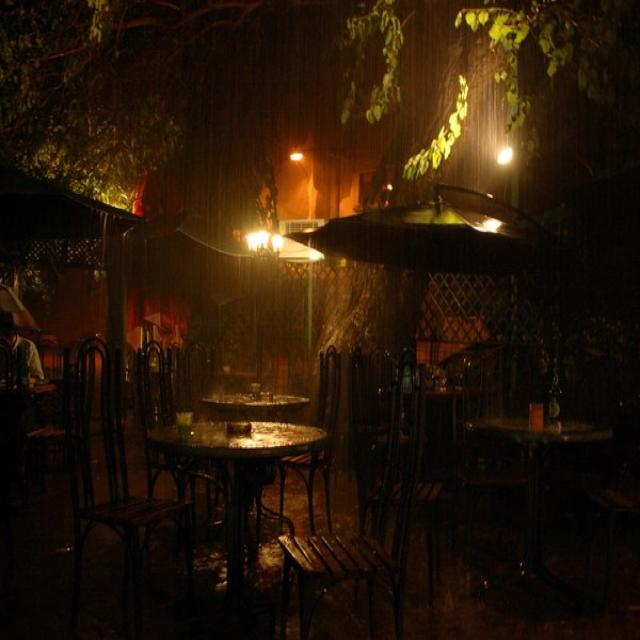Table: (131, 395, 350, 611), (466, 374, 609, 603)
chair: (55, 324, 210, 610), (276, 402, 429, 629), (286, 339, 379, 535), (125, 334, 223, 507)
